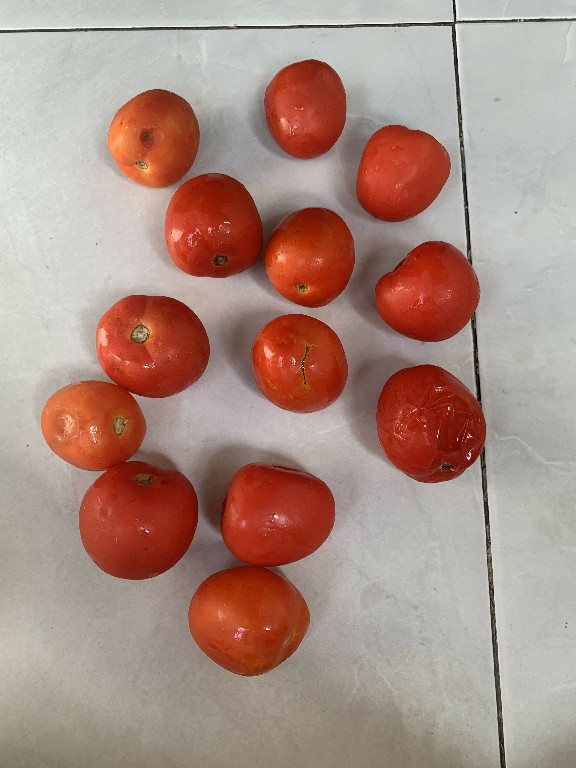NG: (371, 361, 489, 486), (31, 378, 150, 475), (100, 80, 199, 189), (247, 308, 344, 419)
OK: (179, 563, 321, 678), (78, 461, 206, 584), (213, 459, 335, 568), (369, 234, 489, 342), (93, 284, 207, 397), (162, 168, 263, 285), (355, 114, 454, 225), (259, 54, 345, 158), (262, 200, 342, 297)
